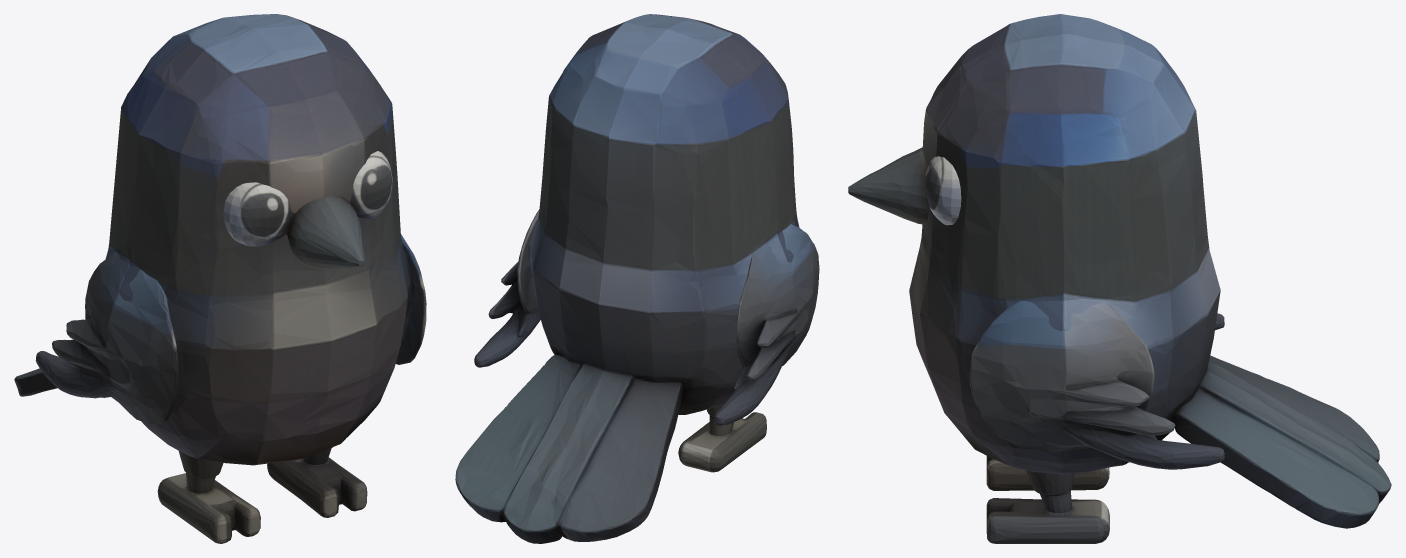
Rendered from raven.glb.
The picture shows the model from 3 angles, left to right: view 1: azimuth 30°, elevation 25°; view 2: azimuth 150°, elevation 25°; view 3: azimuth 270°, elevation 25°; orthographic projection. The views are drawn at different scales.
Parts seen in each view (by area): view 1: Raven_body, Raven_right wing, Raven_head, Raven_left leg, Raven_right leg, Raven_left wing; view 2: Raven_body, Raven_right wing, Raven_left wing, Raven_left leg; view 3: Raven_body, Raven_left wing, Raven_right leg, Raven_head, Raven_left leg.
Part boxes in pixels (box(x1,y1,x2,y2)): Raven_body: box(14, 14, 410, 465); Raven_right wing: box(35, 252, 178, 424); Raven_head: box(223, 151, 392, 269); Raven_left leg: box(157, 451, 260, 543); Raven_right leg: box(267, 447, 367, 517); Raven_left wing: box(395, 234, 426, 364); Raven_body: box(455, 14, 799, 543); Raven_right wing: box(714, 224, 819, 425); Raven_left wing: box(474, 209, 540, 367); Raven_left leg: box(678, 404, 766, 472); Raven_body: box(909, 14, 1391, 528); Raven_left wing: box(969, 301, 1224, 469); Raven_right leg: box(986, 470, 1109, 543); Raven_head: box(848, 147, 961, 225); Raven_left leg: box(986, 456, 1109, 490).
Size of the model in its own units: 4 by 5.99 by 6.2.
Materials: 6 (6 with a texture image).
